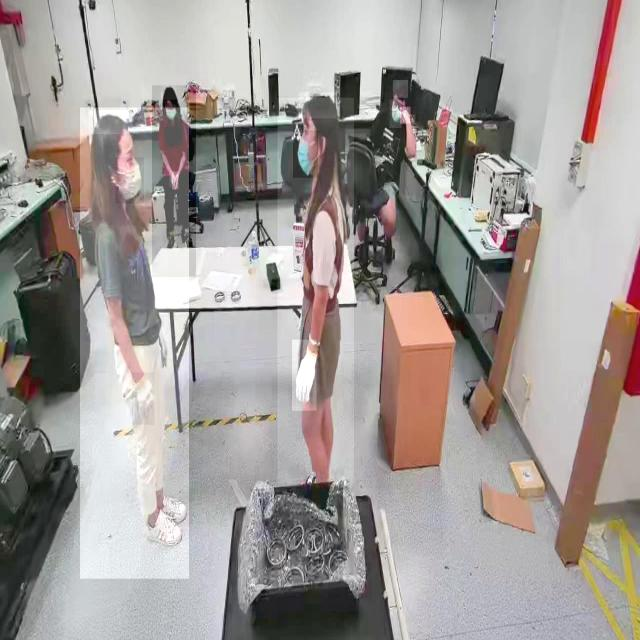face_mask: (116, 158, 144, 204), (293, 130, 318, 178), (163, 101, 180, 127), (389, 100, 402, 128)
hand_glove: (292, 339, 317, 412), (132, 372, 155, 426)
hand_noglove: (400, 106, 411, 125), (172, 172, 179, 190), (169, 170, 175, 188)
head_nohelmet: (89, 110, 129, 135), (299, 93, 337, 119), (393, 80, 409, 99), (161, 86, 177, 100)
person: (80, 108, 190, 580), (278, 98, 354, 484), (372, 74, 422, 260), (152, 85, 196, 278)
shoes: (144, 506, 183, 550), (154, 489, 188, 524)
